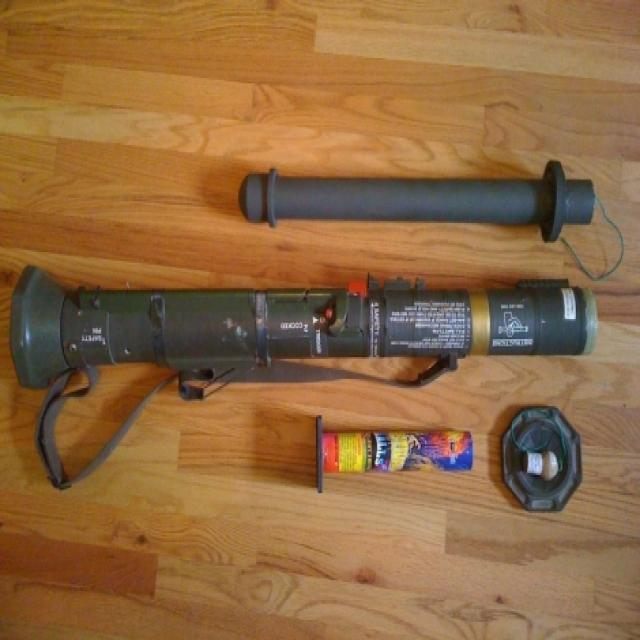bazooka: (12, 242, 622, 536)
